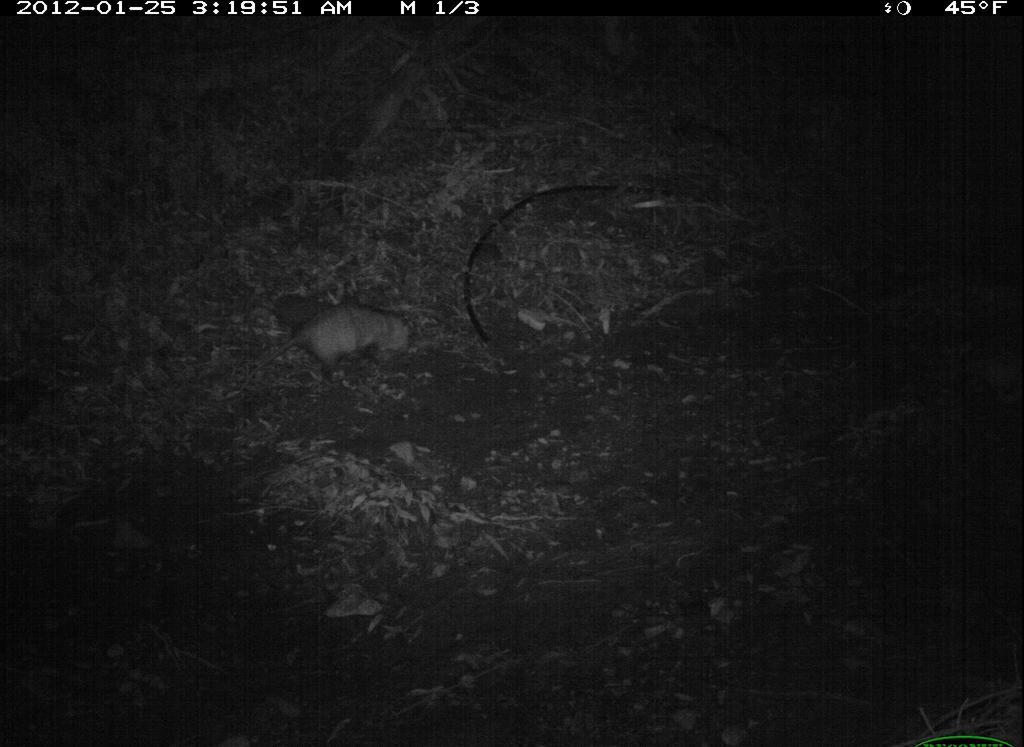opossum: (232, 296, 427, 390)
